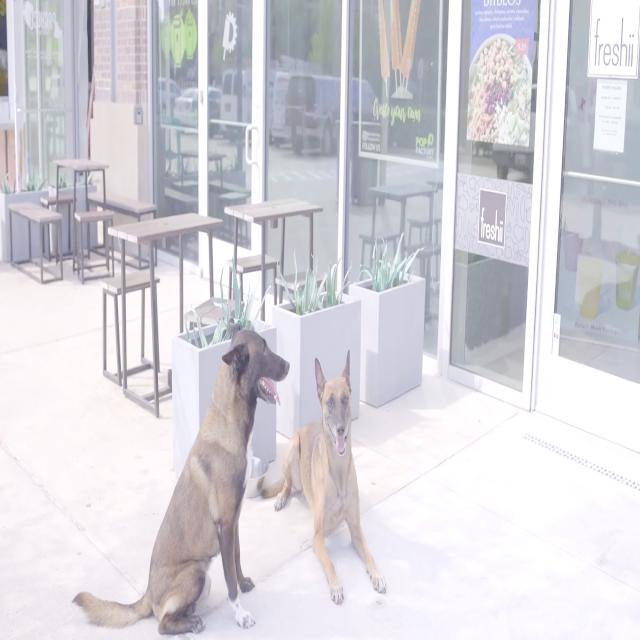Dog: (70, 315, 290, 634), (261, 348, 387, 604)
